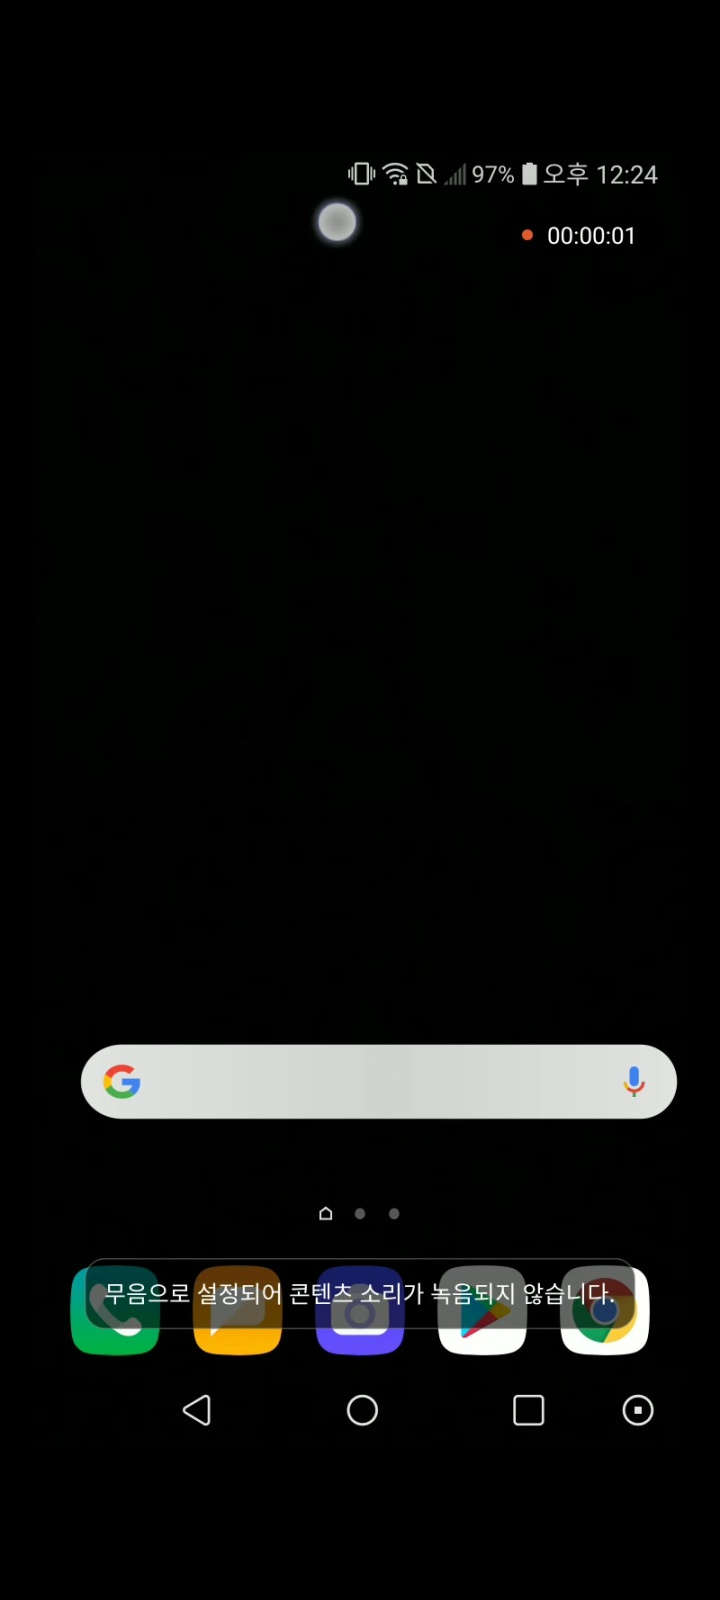Cursor: (316, 200, 361, 246)
